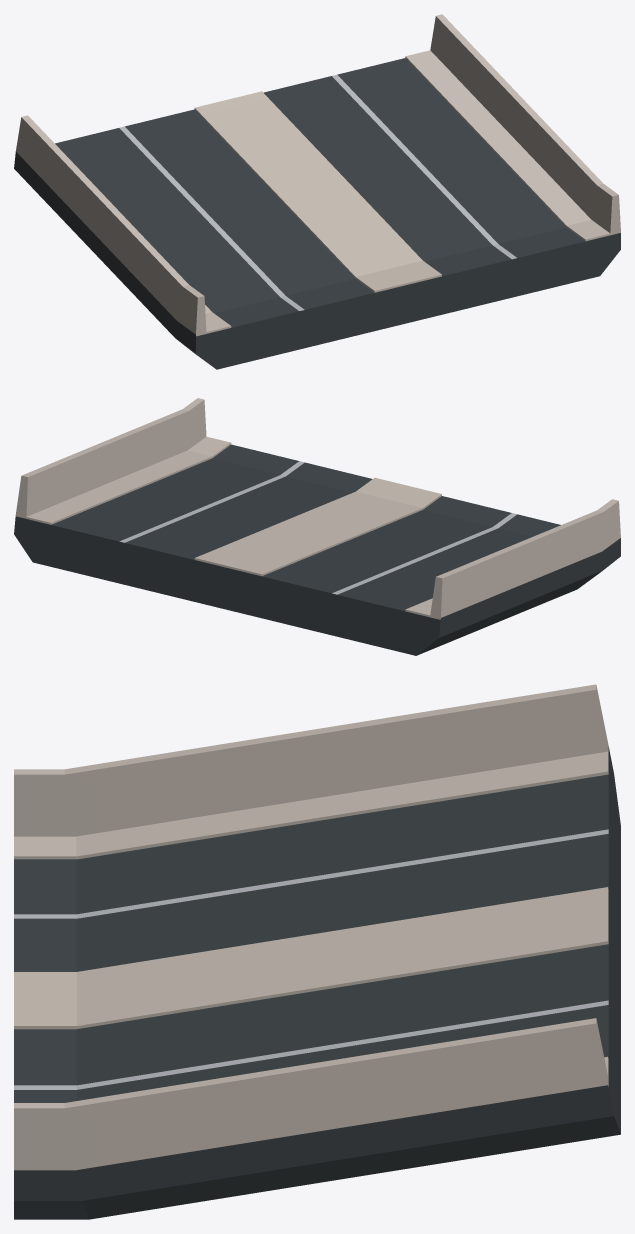
Rendered from SM_brige_015.glb.
3 renders of one model, top to bottom at view 1: azimuth 30°, elevation 25°; view 2: azimuth 150°, elevation 25°; view 3: azimuth 270°, elevation 25°, orthographic. The views are drawn at different scales.
Visible parts, largest first — view 1: SM_brige_015; view 2: SM_brige_015; view 3: SM_brige_015.
Boxes of the visible parts, x1,y1,x2,y2 form: SM_brige_015: [14, 14, 620, 369]; SM_brige_015: [14, 398, 620, 655]; SM_brige_015: [14, 684, 620, 1219].
Size of the model in its own units: 12 by 3.46 by 9.
Materials: 1 (1 with a texture image).
